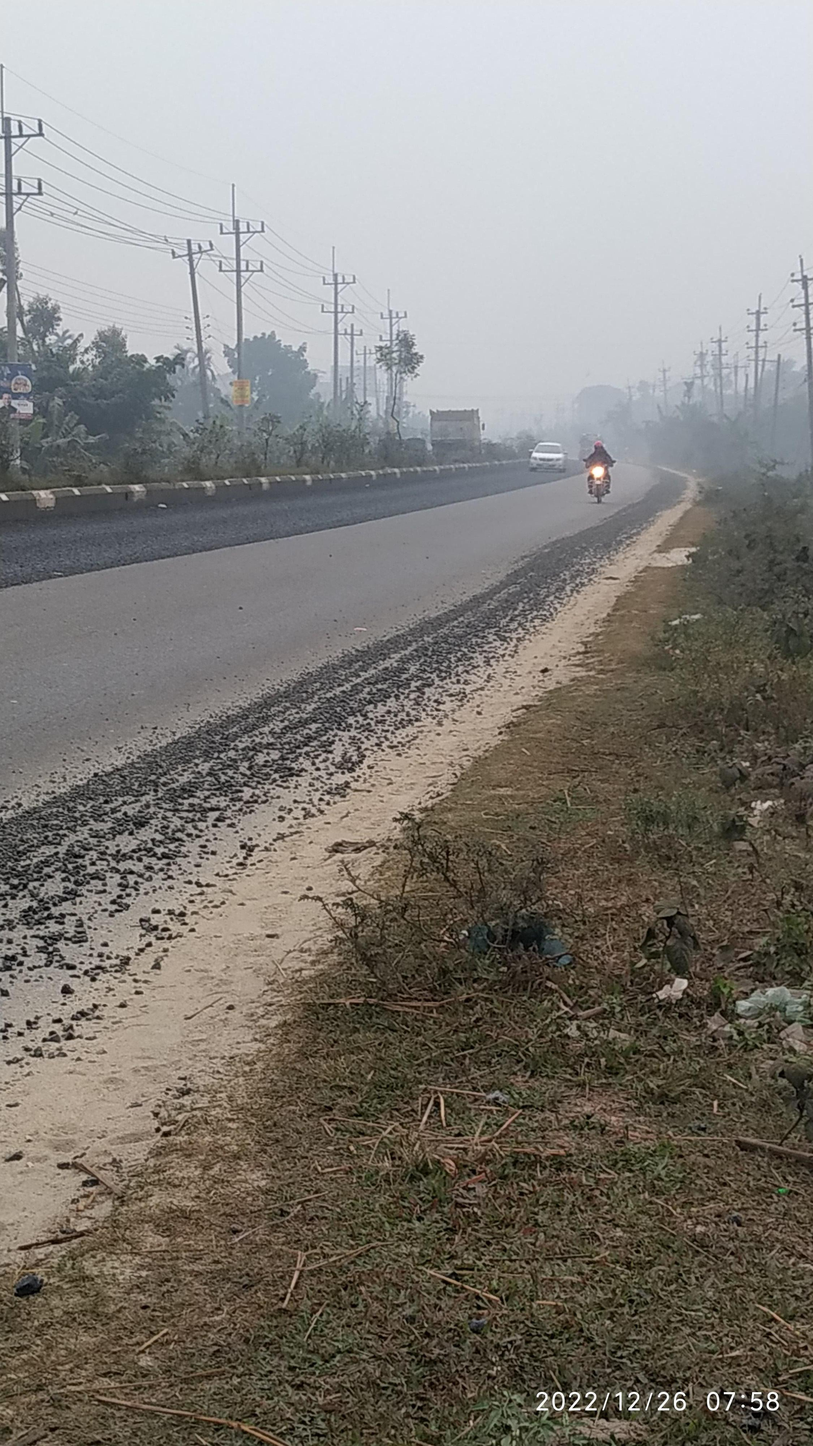Bike: (575, 432, 637, 519)
Car: (506, 429, 573, 497)
Truck: (420, 393, 503, 471)
